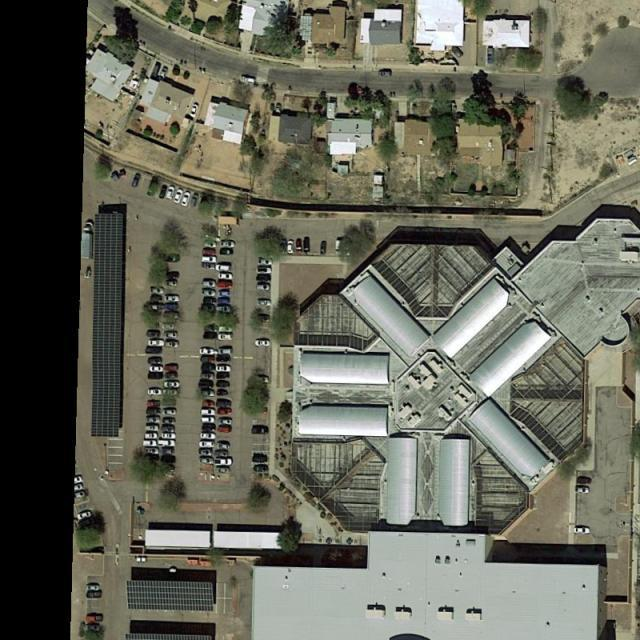vehicle: (82, 221, 93, 258), (148, 178, 158, 197), (151, 62, 162, 78), (181, 192, 192, 207), (199, 432, 217, 441), (174, 189, 184, 205), (572, 526, 592, 534), (131, 173, 141, 188), (161, 254, 179, 262), (214, 458, 232, 466), (158, 440, 176, 448), (158, 184, 167, 200), (190, 193, 199, 209), (218, 280, 234, 289), (158, 66, 169, 79), (202, 363, 216, 373), (201, 355, 215, 365), (199, 409, 216, 417), (255, 266, 272, 274), (253, 426, 270, 434), (214, 442, 231, 450), (486, 48, 494, 65), (280, 239, 288, 256), (199, 372, 214, 381), (77, 511, 92, 520), (166, 187, 175, 202), (198, 448, 214, 456), (199, 440, 215, 448), (200, 425, 216, 433), (198, 458, 214, 466), (218, 326, 234, 334), (218, 347, 234, 355), (254, 375, 270, 383), (216, 364, 232, 372), (304, 238, 312, 254), (242, 76, 258, 84), (574, 486, 590, 494), (199, 400, 217, 407), (144, 346, 162, 353), (256, 283, 270, 292), (216, 388, 230, 397), (218, 400, 232, 409), (142, 448, 160, 455), (85, 616, 103, 623), (201, 278, 215, 287), (165, 294, 180, 302), (147, 330, 162, 338), (217, 379, 232, 387), (162, 388, 177, 396), (198, 417, 215, 424), (198, 390, 215, 397), (147, 339, 164, 346), (160, 432, 177, 439), (575, 478, 592, 485), (166, 271, 180, 279), (198, 381, 214, 388), (163, 280, 179, 287), (163, 312, 179, 319), (162, 323, 178, 330), (162, 331, 178, 338), (202, 331, 218, 338), (257, 314, 271, 322), (144, 425, 158, 433), (86, 592, 102, 599), (201, 304, 215, 312), (190, 104, 198, 118), (164, 382, 182, 388), (318, 242, 327, 254), (165, 341, 180, 348), (215, 467, 230, 474), (215, 451, 230, 458), (201, 347, 216, 354), (258, 258, 273, 265), (255, 339, 270, 346), (147, 388, 162, 395), (162, 456, 177, 463), (84, 625, 99, 632), (218, 306, 231, 314), (166, 303, 179, 311), (286, 241, 294, 254), (334, 241, 342, 254), (379, 69, 392, 77), (148, 303, 162, 310), (258, 300, 272, 307), (218, 419, 232, 426), (148, 358, 162, 365), (148, 400, 162, 407), (146, 417, 160, 424), (143, 432, 157, 439), (143, 439, 157, 446), (144, 456, 158, 463), (218, 297, 232, 304), (275, 104, 282, 118), (220, 241, 234, 248), (216, 265, 230, 272), (218, 334, 234, 340), (254, 456, 270, 462), (85, 584, 101, 590), (201, 290, 217, 296), (74, 491, 86, 499), (150, 287, 163, 294), (149, 364, 162, 371), (149, 373, 162, 380), (163, 418, 176, 425), (295, 241, 302, 254), (202, 249, 215, 256), (256, 274, 271, 280), (218, 426, 233, 432), (202, 257, 217, 263), (149, 295, 163, 301), (146, 321, 160, 327), (204, 241, 218, 247), (202, 325, 218, 330), (218, 274, 234, 279), (217, 355, 230, 361), (219, 410, 232, 416), (165, 373, 178, 379), (148, 409, 161, 415), (162, 426, 175, 432), (219, 249, 232, 255), (204, 262, 215, 269), (162, 410, 177, 415), (202, 297, 217, 302), (166, 364, 178, 370), (218, 290, 230, 296), (74, 483, 83, 491), (254, 466, 268, 471), (160, 449, 174, 454), (134, 558, 147, 563), (74, 474, 82, 482), (218, 373, 230, 378)
